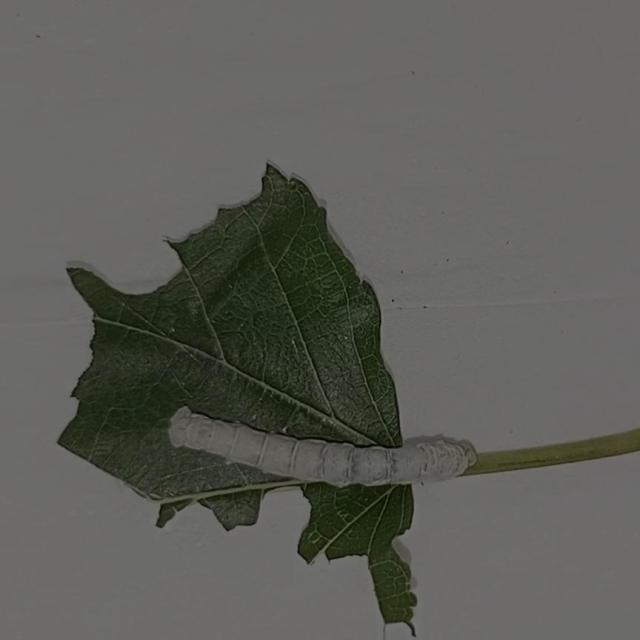Healthy: (135, 365, 523, 528)
